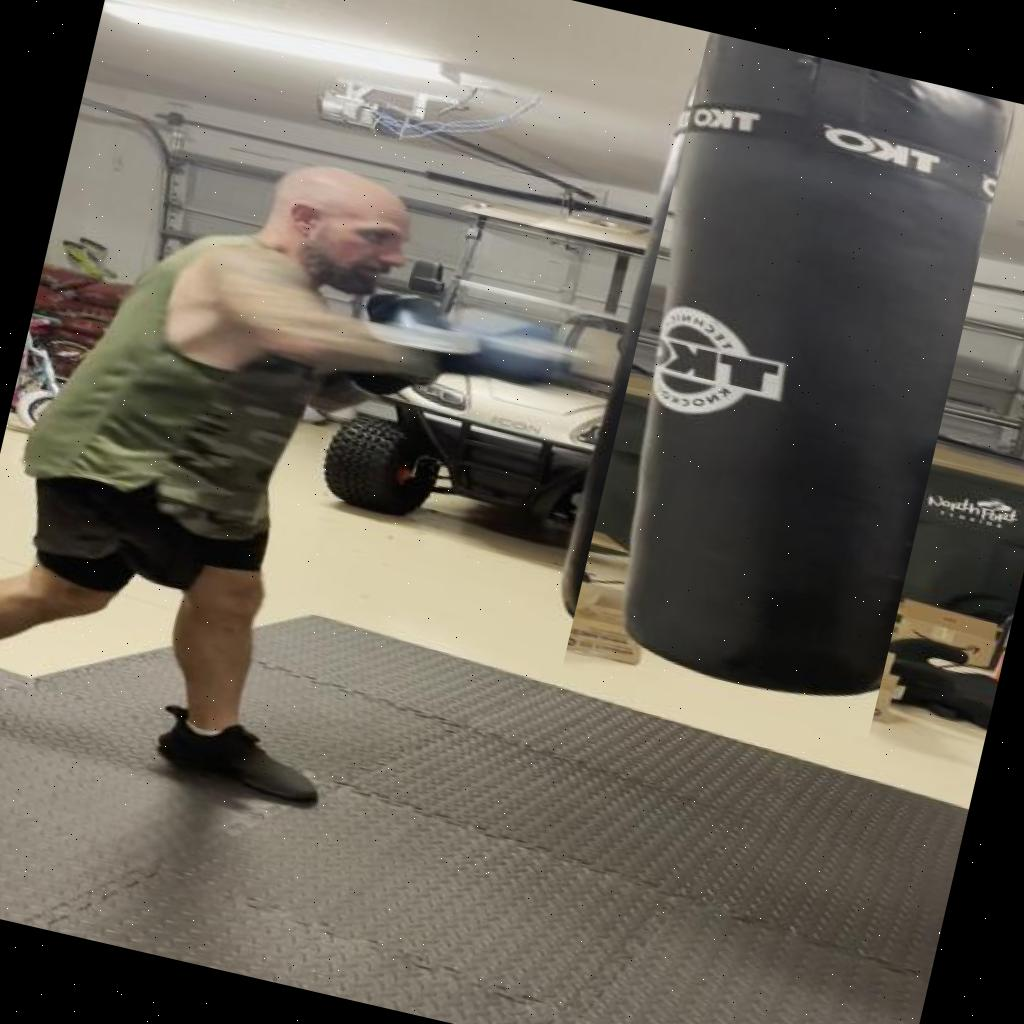bag: (562, 32, 1015, 738)
cross: (76, 64, 690, 478)
